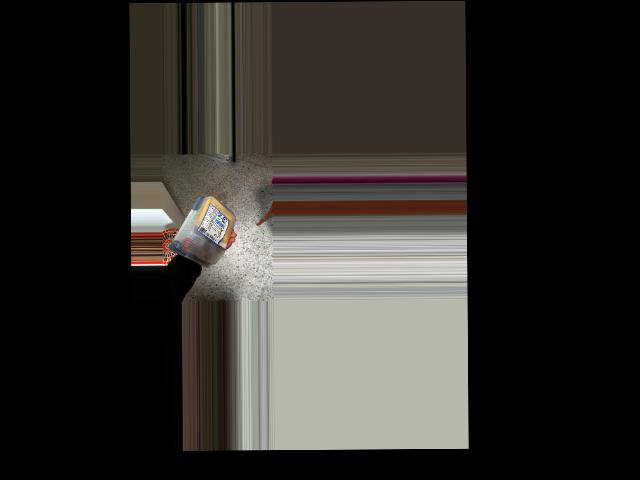cheese: (164, 190, 241, 270)
